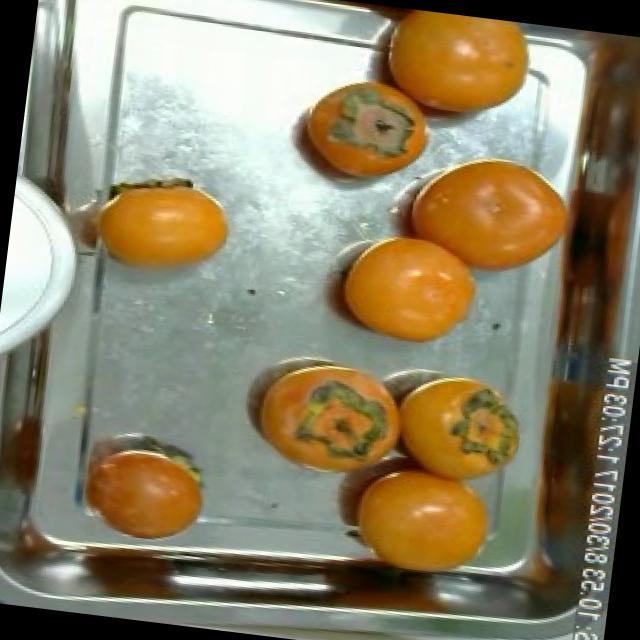Fruit: (383, 126, 586, 296), (313, 436, 518, 586), (340, 2, 554, 142), (226, 344, 416, 490), (320, 213, 498, 364), (368, 350, 544, 499), (274, 62, 447, 204), (72, 156, 246, 296), (66, 426, 222, 550), (524, 220, 640, 377)
